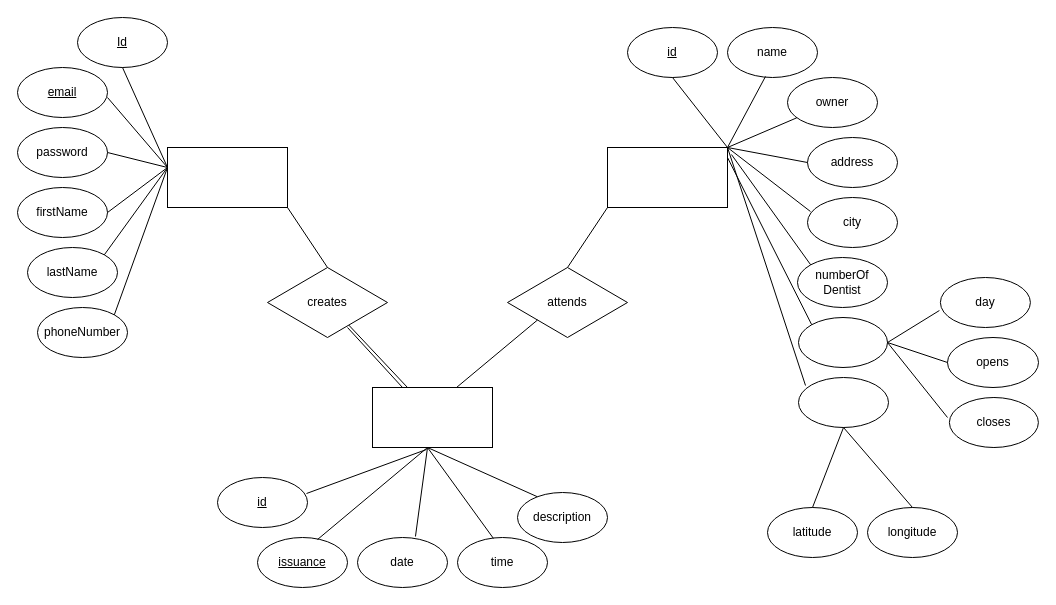
Some shapes in this 1056 by 605 pixel diagram are drawn without their labels. The centre of each missing label's shape, as x and y in pixels:
Appointment: the point at 432,417
coordinates: the point at 843,402
Dentist: the point at 667,177
opening hours: the point at 843,342
User: the point at 227,177
